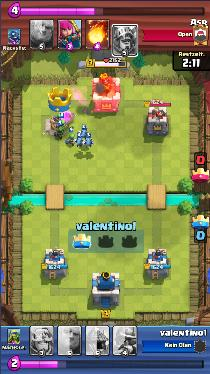ally_minion: (83, 137, 94, 148), (75, 136, 85, 147), (78, 128, 89, 137)
ally_spear_goblin: (66, 134, 75, 145), (54, 128, 64, 137), (57, 120, 66, 128), (55, 114, 62, 122)
